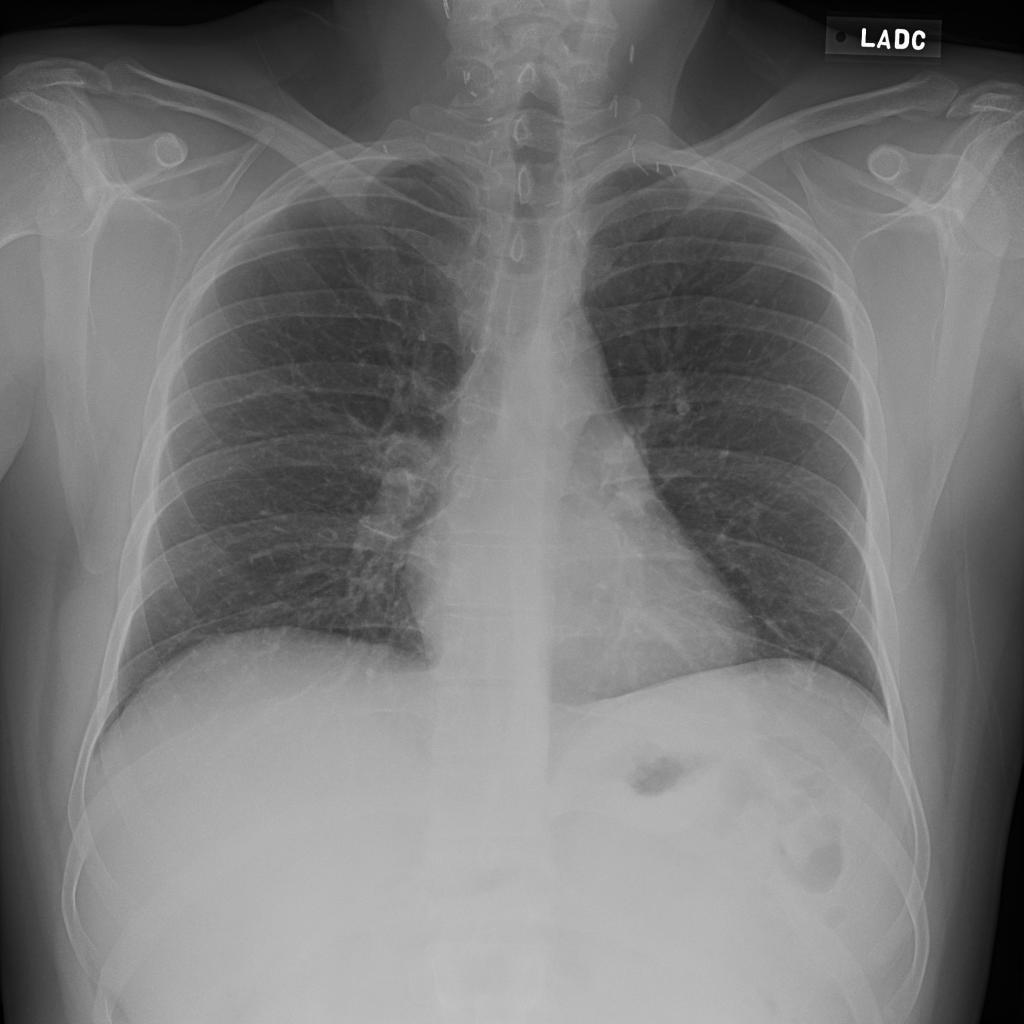Nodule: (367, 109, 407, 137)
